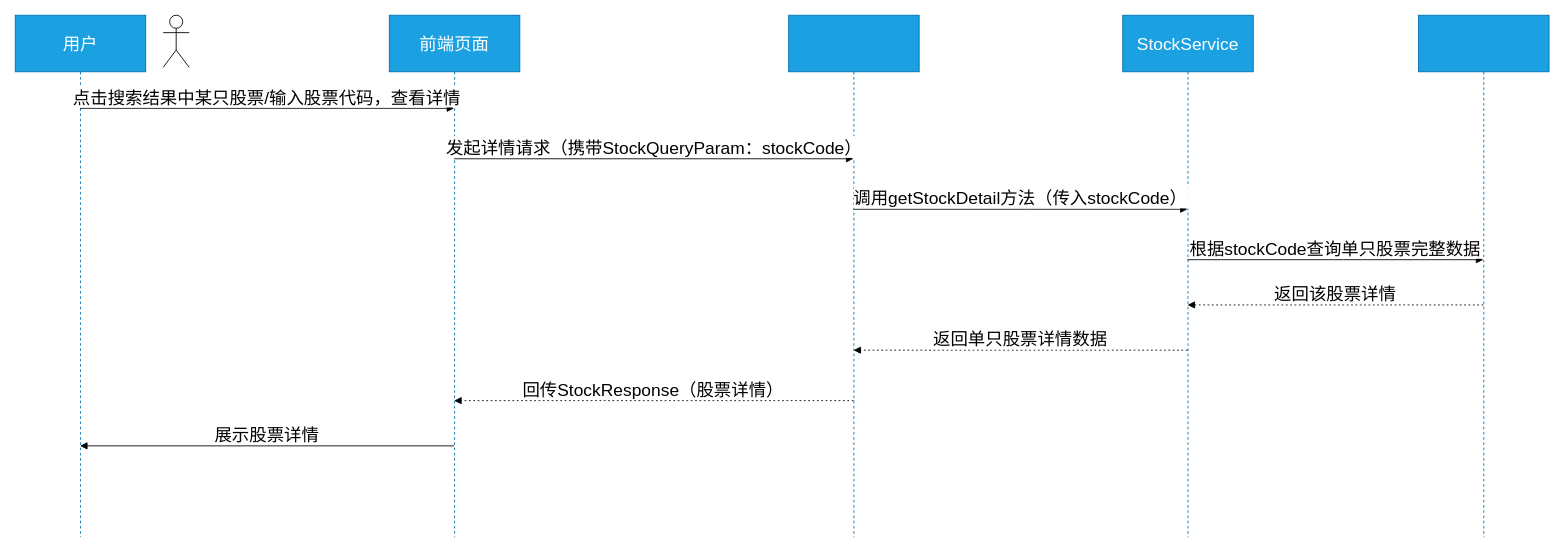
Some shapes in this 1564 by 552 pixel diagram are drawn without their labels. The shapes that lost their labels are listed below. From the top down, each one's box as (x1, y1, x2, y2) in pixels, then its label:
(788, 14, 919, 537): StockController
(1418, 14, 1549, 537): Stock
